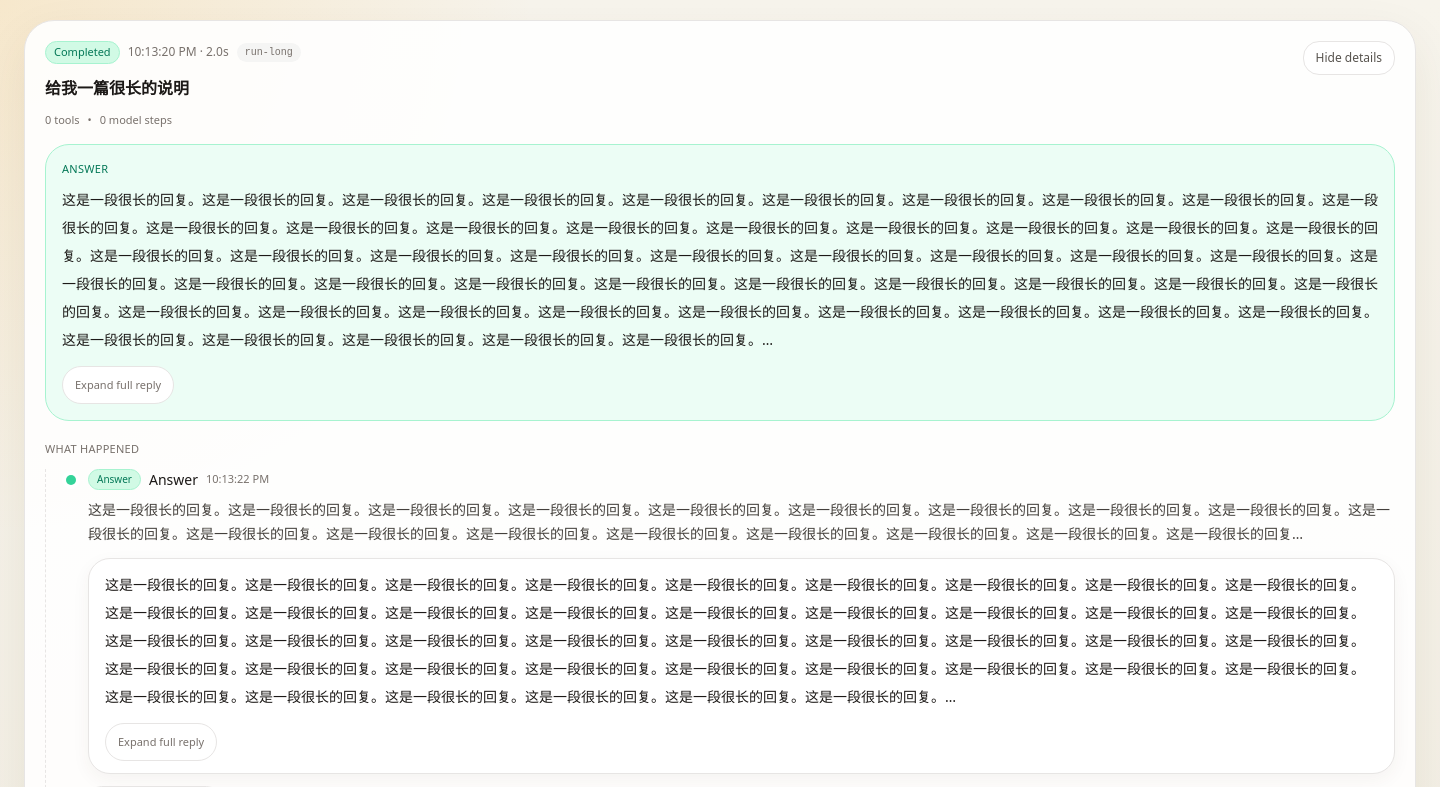
Scenario: CommandCenter › collapses long card content by default and expands it on demand
Step 1. Click the 1st button "Expand full reply" → click(118, 384), box 62,366 -> 174,404
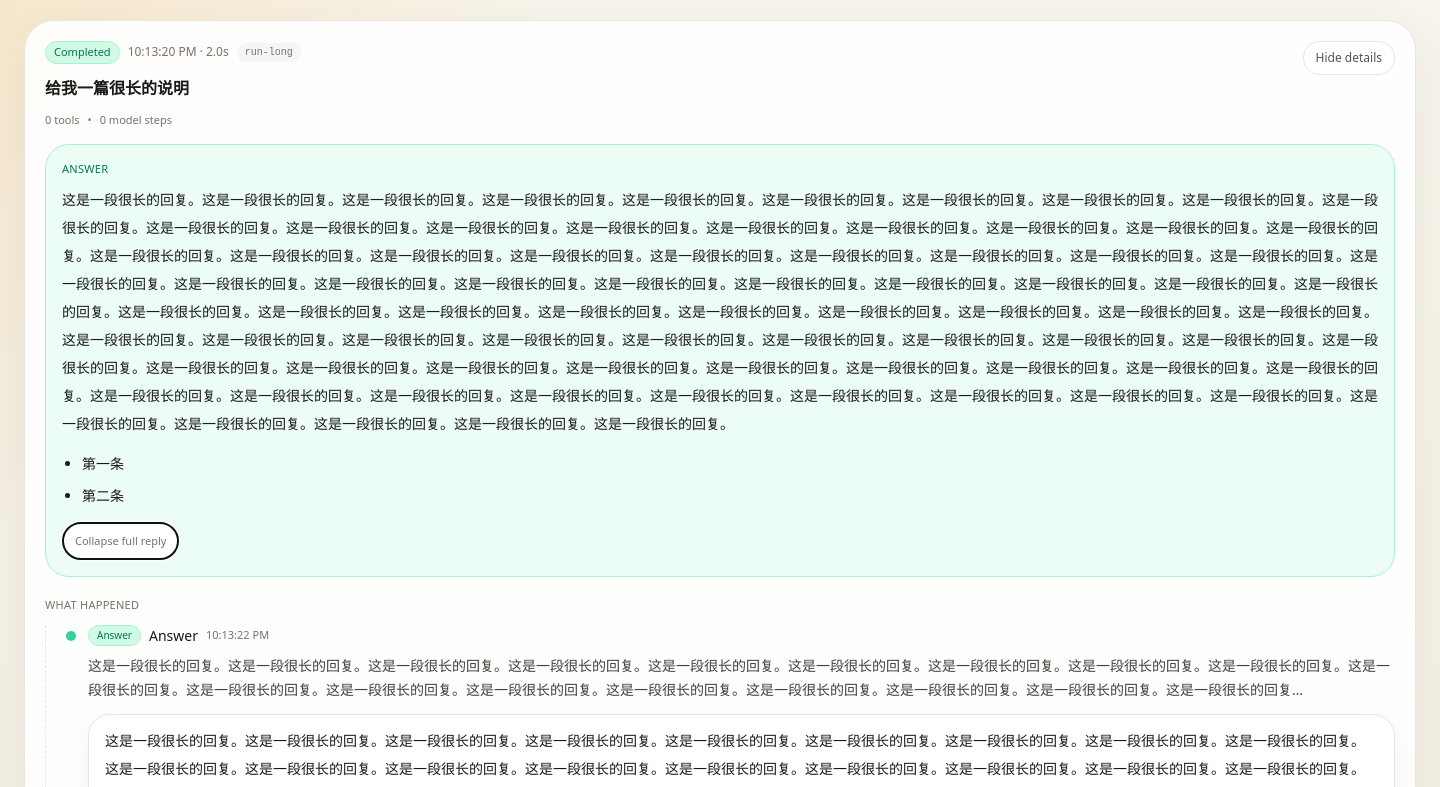
Now the button "Collapse full reply" is shown, box 62,522 -> 179,560
Now the list item "第一条" is shown, box 82,454 -> 124,472
